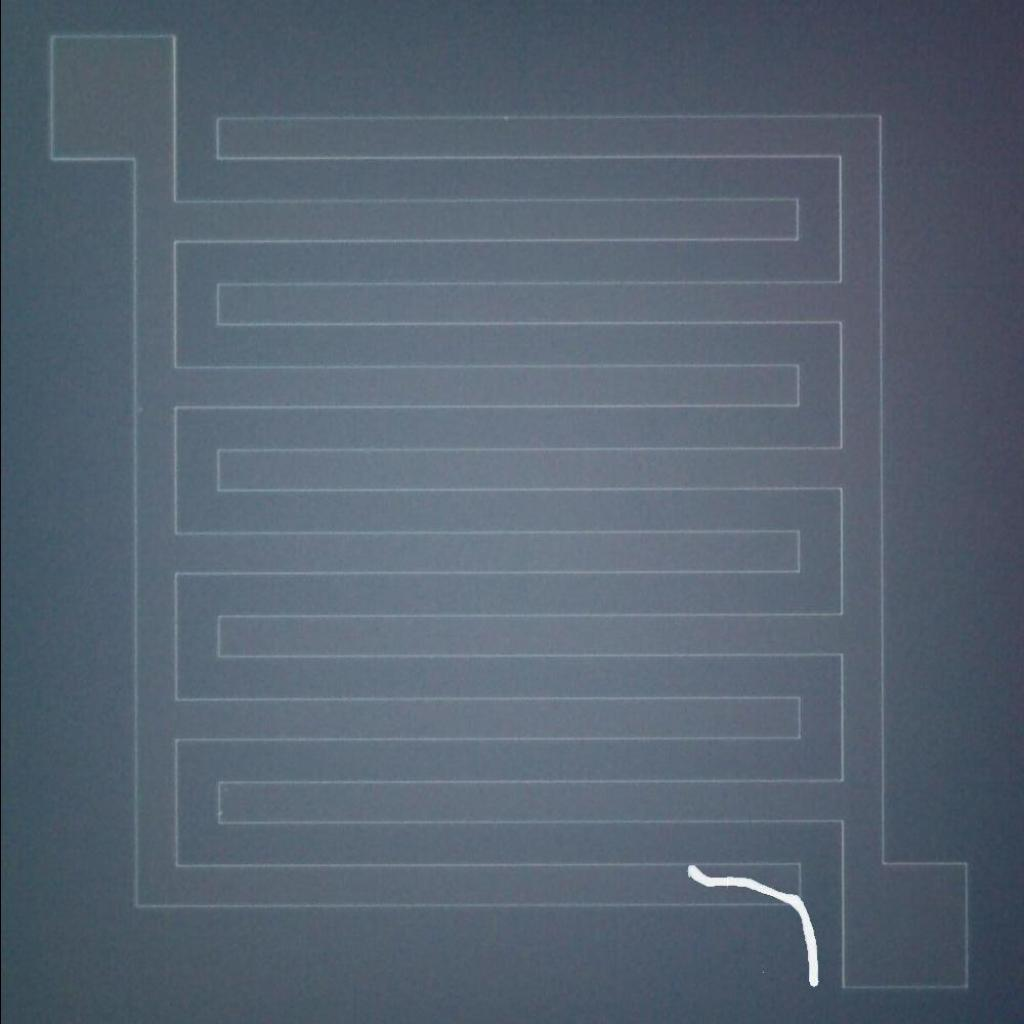line: (676, 856, 825, 992)
